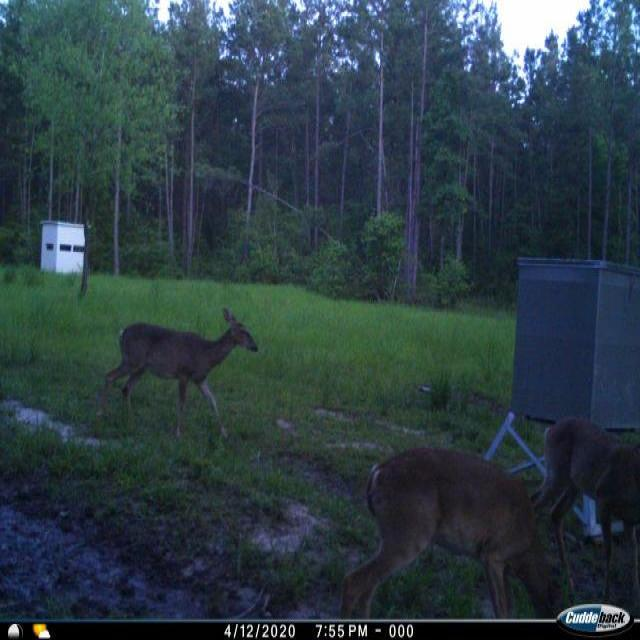deer: (330, 444, 566, 616), (90, 307, 262, 450), (523, 417, 639, 600)
